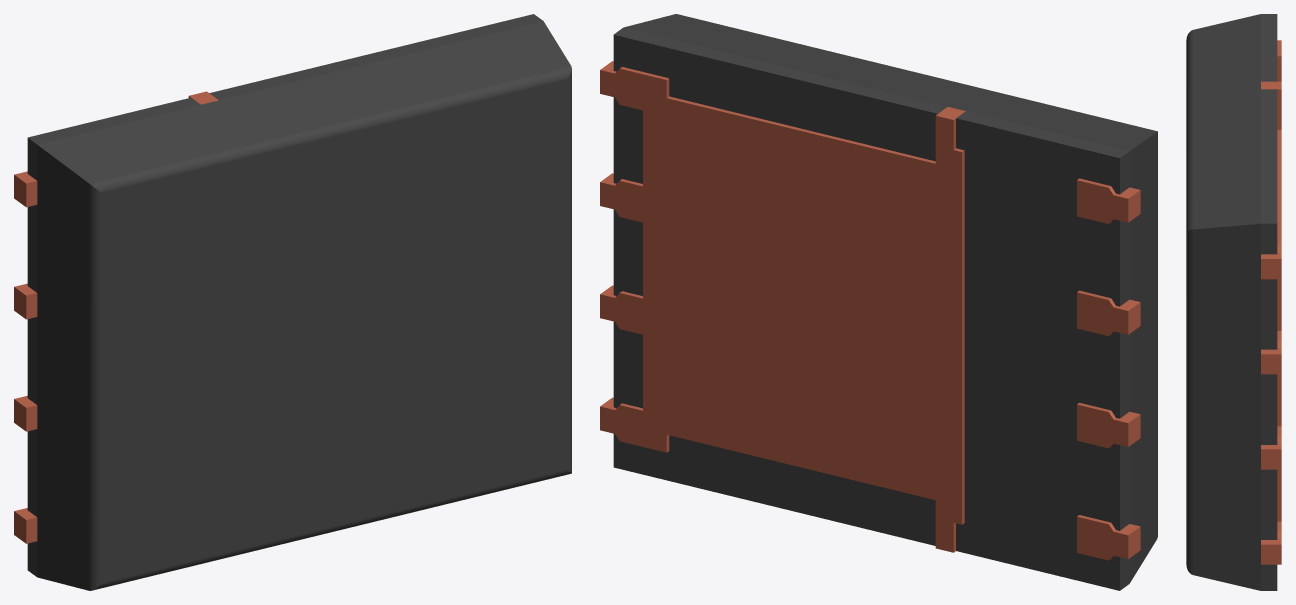
3 views of the same model, side by side, from view 1: azimuth 30°, elevation 25°; view 2: azimuth 150°, elevation 25°; view 3: azimuth 270°, elevation 25° (orthographic). The views are drawn at different scales.
Visible parts, largest first — view 1: MOLD, SOLID (×4); view 2: MOLD, SOLID (×5); view 3: MOLD, SOLID (×2).
Part boxes in pixels (x1=…): MOLD: x1=27, y1=14, x2=571, y2=590; SOLID (×4): x1=14, y1=171, x2=37, y2=543; MOLD: x1=613, y1=14, x2=1157, y2=590; SOLID (×5): x1=600, y1=61, x2=1140, y2=560; MOLD: x1=1186, y1=14, x2=1277, y2=590; SOLID (×2): x1=1261, y1=40, x2=1281, y2=564.
Size of the model in its own units: 6.26 by 4.9 by 1.15.
